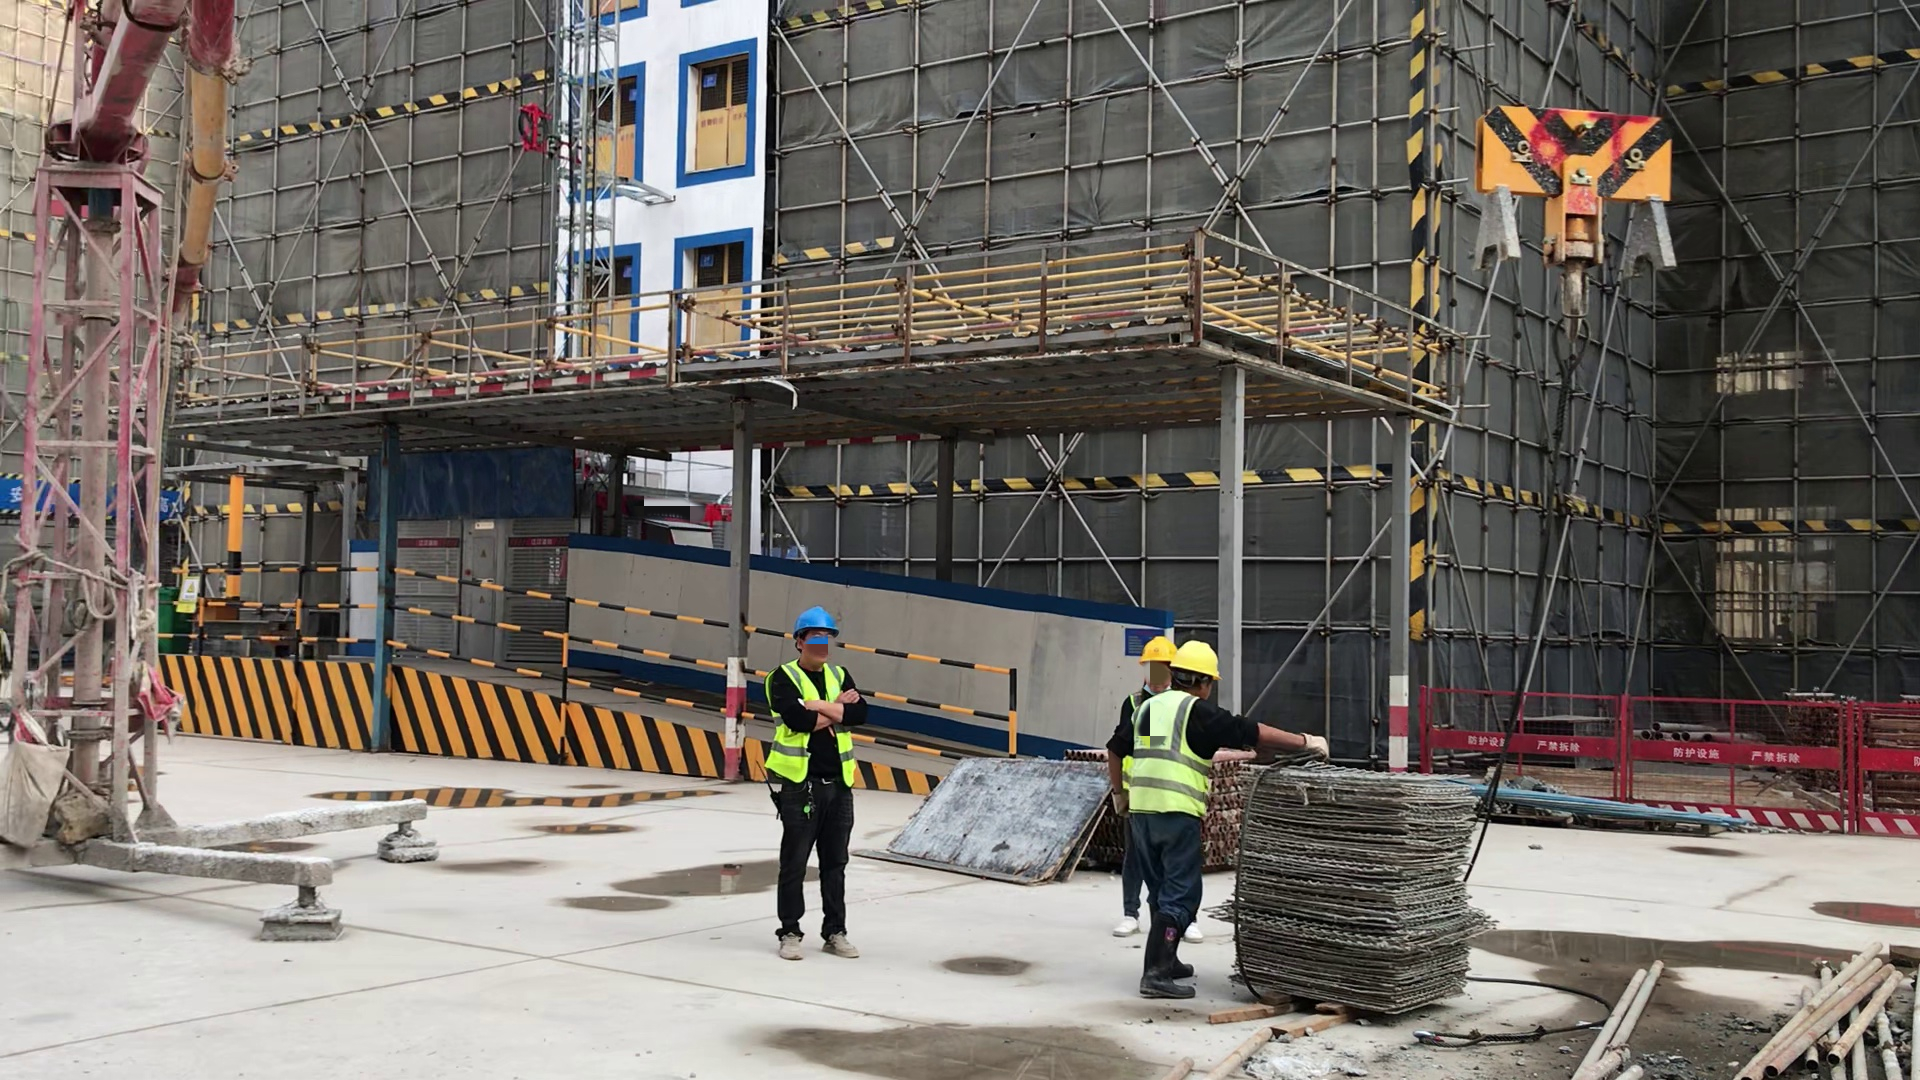fence: (403, 558, 717, 720), (1726, 693, 1920, 835), (1533, 694, 1729, 800), (863, 631, 1025, 741), (248, 538, 374, 649)
helmet: (1168, 639, 1221, 681), (793, 607, 840, 636), (1137, 634, 1173, 666)
hook: (1460, 97, 1687, 335)
person: (759, 604, 871, 968), (1110, 646, 1222, 1006)
slogan: (174, 575, 204, 612), (414, 537, 446, 549), (526, 535, 554, 545)
